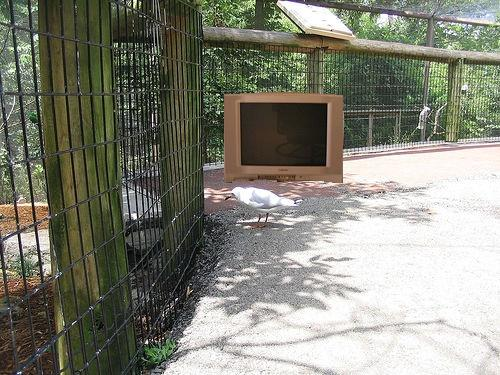tampered: (225, 93, 343, 183)
